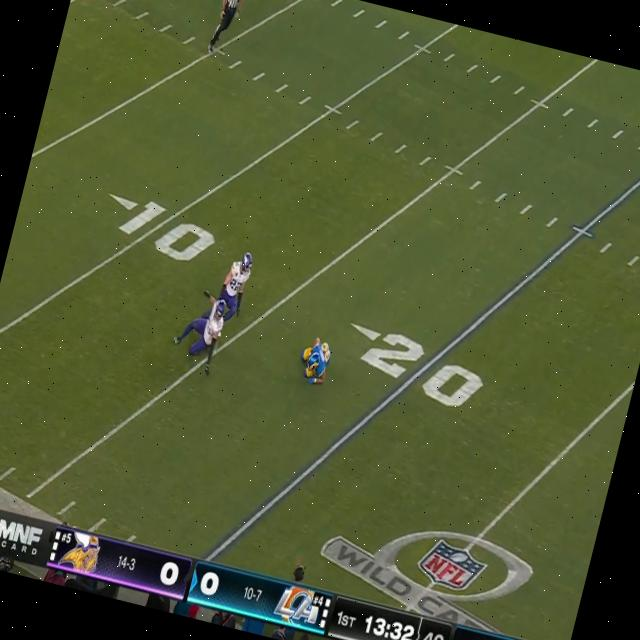Player: (164, 286, 235, 384), (294, 332, 334, 388), (220, 248, 254, 307)
Referee: (207, 0, 250, 58)
